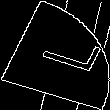L_W: (17, 31, 93, 79)
